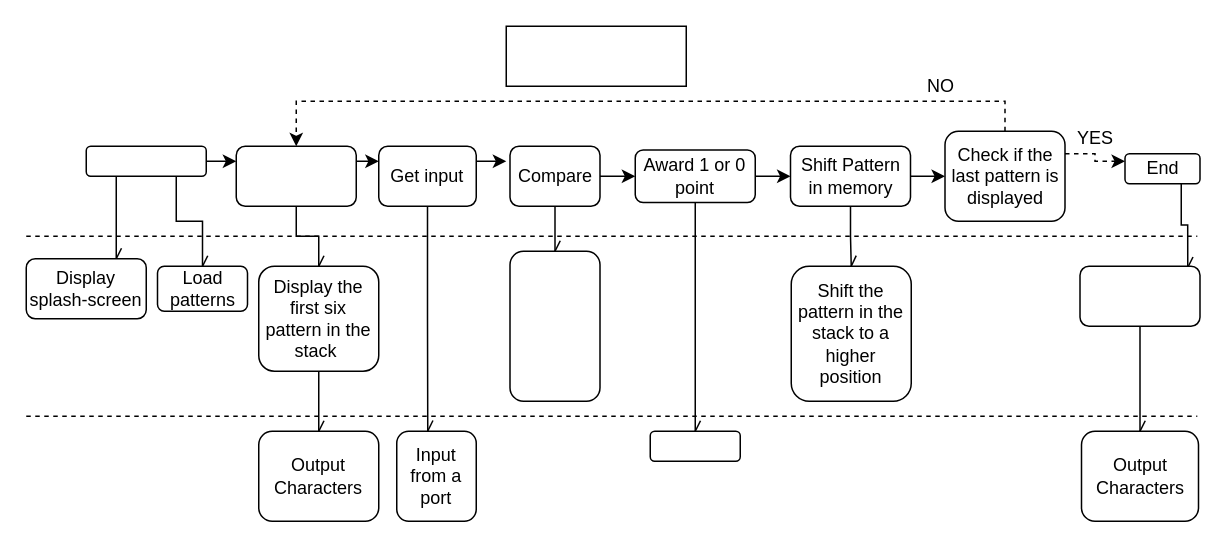
The diagram is 1227 pixels wide and 548 high, and some of its shapes have lost their labels. Each missing label, with the box of its shape:
Add 1 or 0: (649, 430, 740, 461)
BASS CHAMPION: (505, 25, 686, 86)
Compare first pattern in the stack with the input: (508, 250, 600, 401)
Display end-screen: (1078, 265, 1200, 326)
Display patterns: (235, 145, 356, 206)
Initialise: (85, 145, 206, 176)
